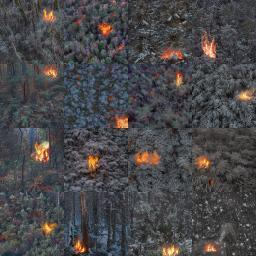Small fire: (198, 33, 221, 60), (134, 148, 165, 167), (32, 138, 52, 165), (161, 48, 189, 63), (236, 85, 256, 106), (201, 237, 221, 256), (41, 223, 60, 242), (85, 153, 100, 177), (95, 22, 115, 39), (195, 155, 212, 175), (113, 112, 132, 129), (158, 243, 181, 256), (41, 8, 55, 26), (172, 71, 185, 90), (72, 240, 87, 256), (42, 68, 60, 81)
